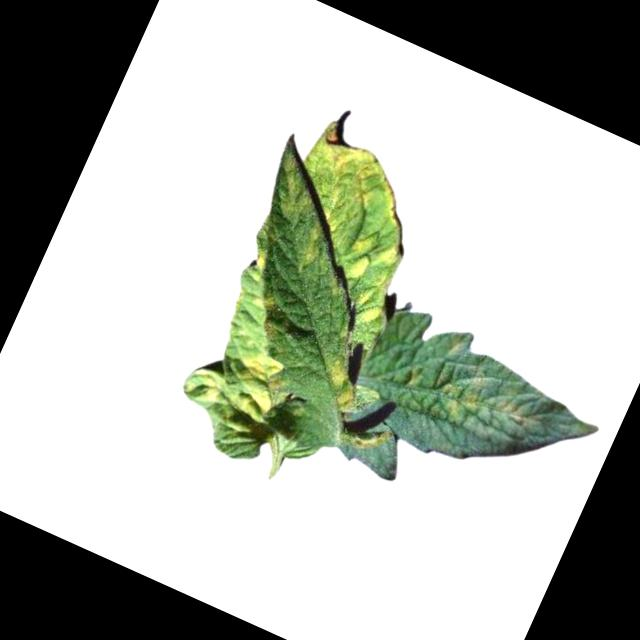Leaf_Mold: (233, 109, 445, 326), (398, 352, 546, 450), (180, 323, 302, 438), (312, 355, 375, 420)
